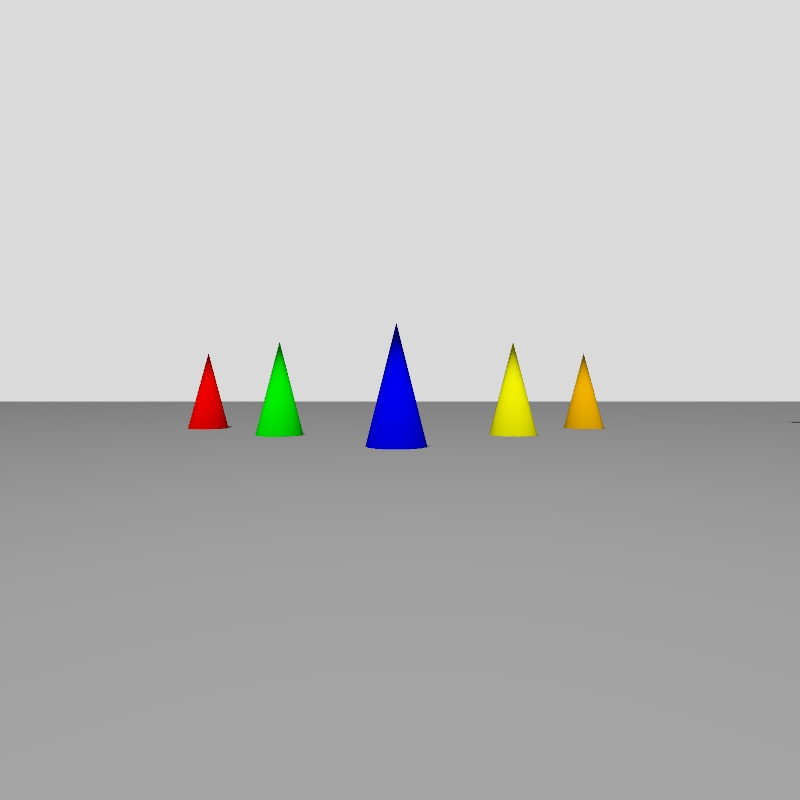Blue_cone: (366, 326, 425, 449)
Green_cone: (256, 344, 303, 437)
Orange_cone: (565, 356, 603, 428)
Red_cone: (190, 357, 227, 429)
Yellow_cone: (491, 344, 536, 437)
